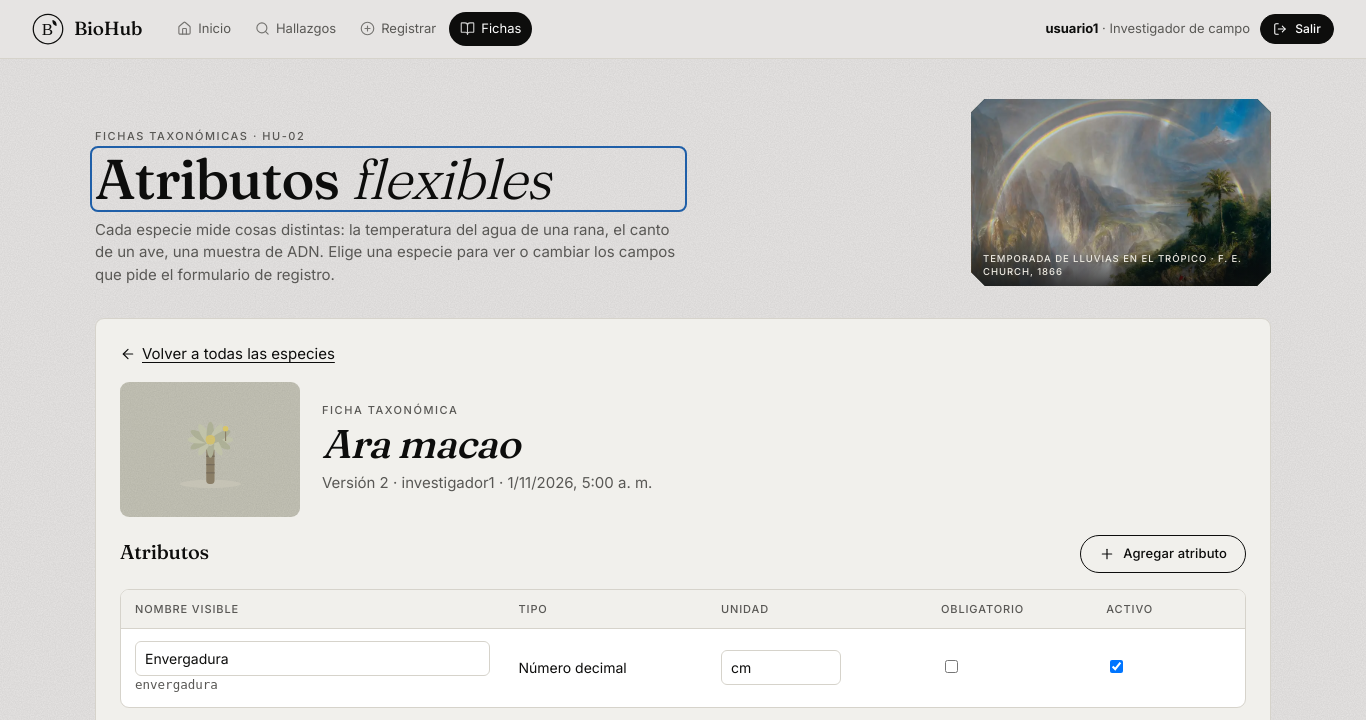
Scenario: Fichas taxonómicas (HU-02, RNF8) › un atributo guardado no se puede quitar, solo desactivar; uno sin nombre no se guarda
Expected: the checkbox named "Activo: Envergadura" is enabled, [1110,660,1123,673]
Expected: the button "Quitar" is not shown
Click the button "Agregar atributo": [1163, 554] box [1080,534,1246,572]
(page scrolled)
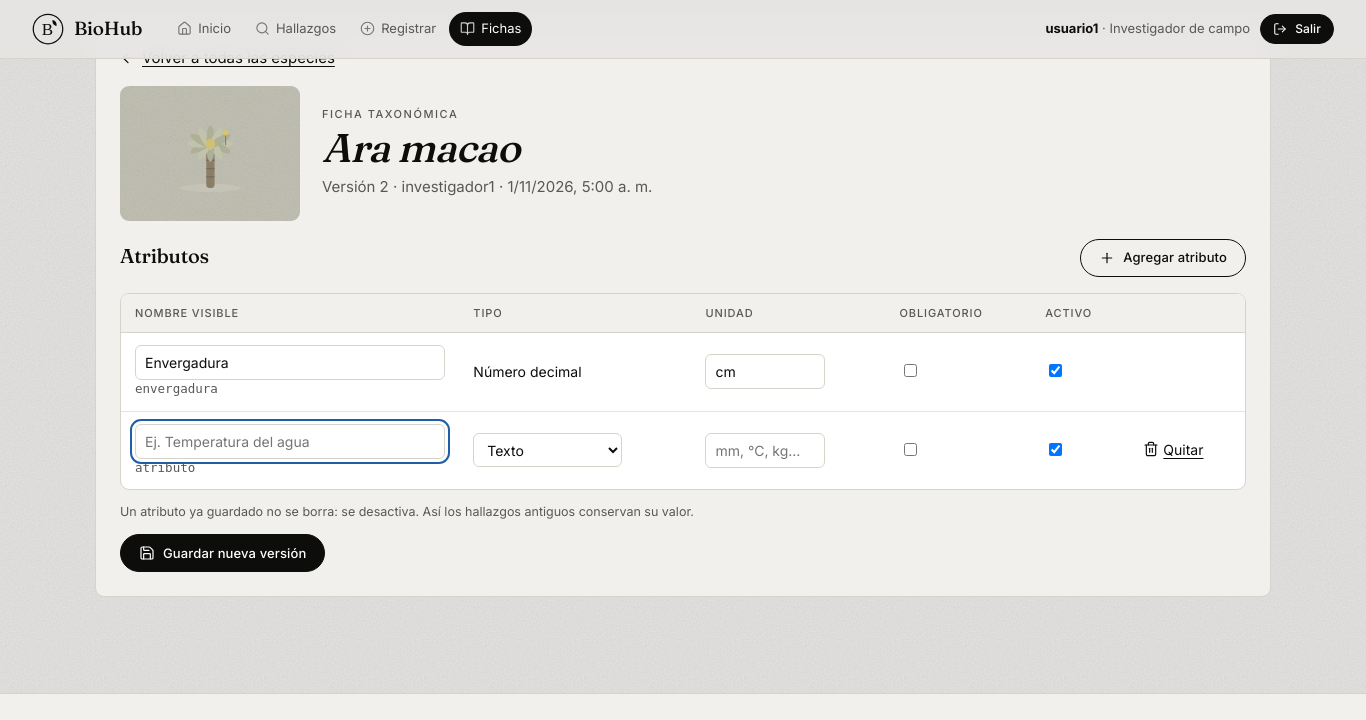
Click the button "Guardar nueva versión": [223, 553] box [120,534,326,572]
(page scrolled)
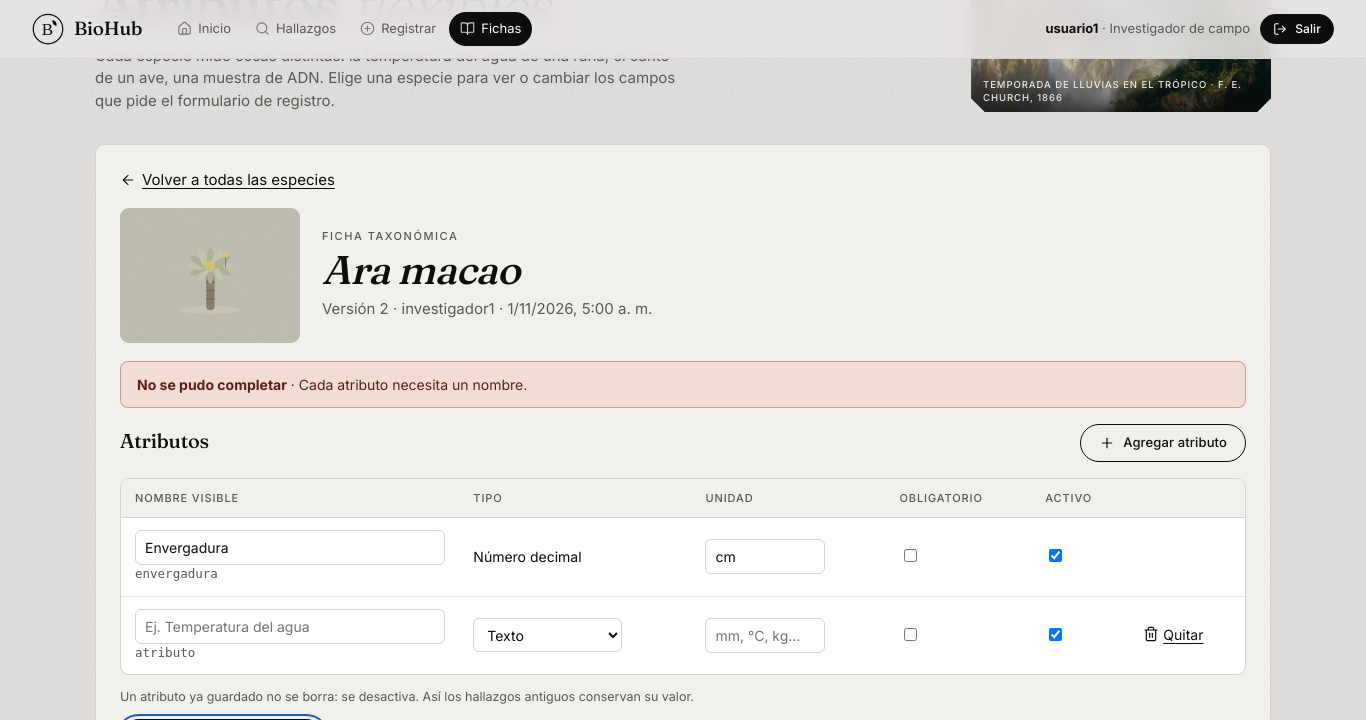
Now the message shows "Cada atributo necesita un nombre.", box [299,376,527,392]
